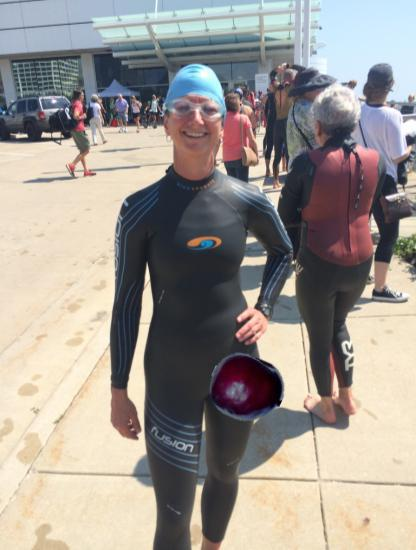Plum: (209, 351, 284, 426)
